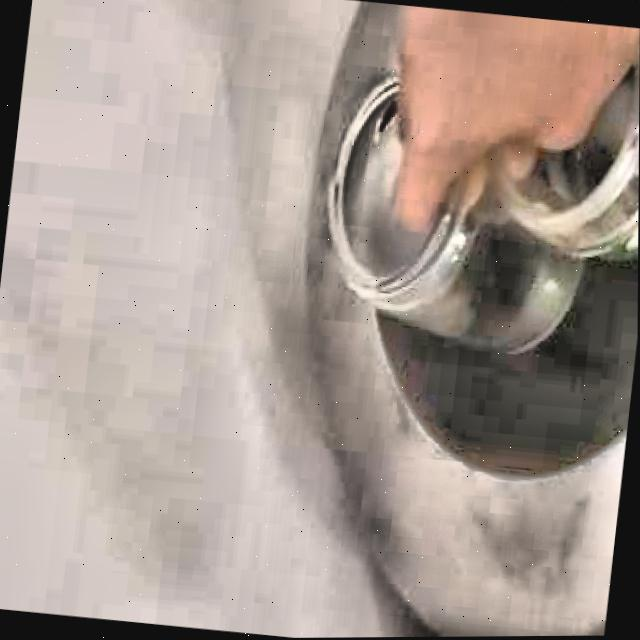glass: (329, 50, 640, 354)
